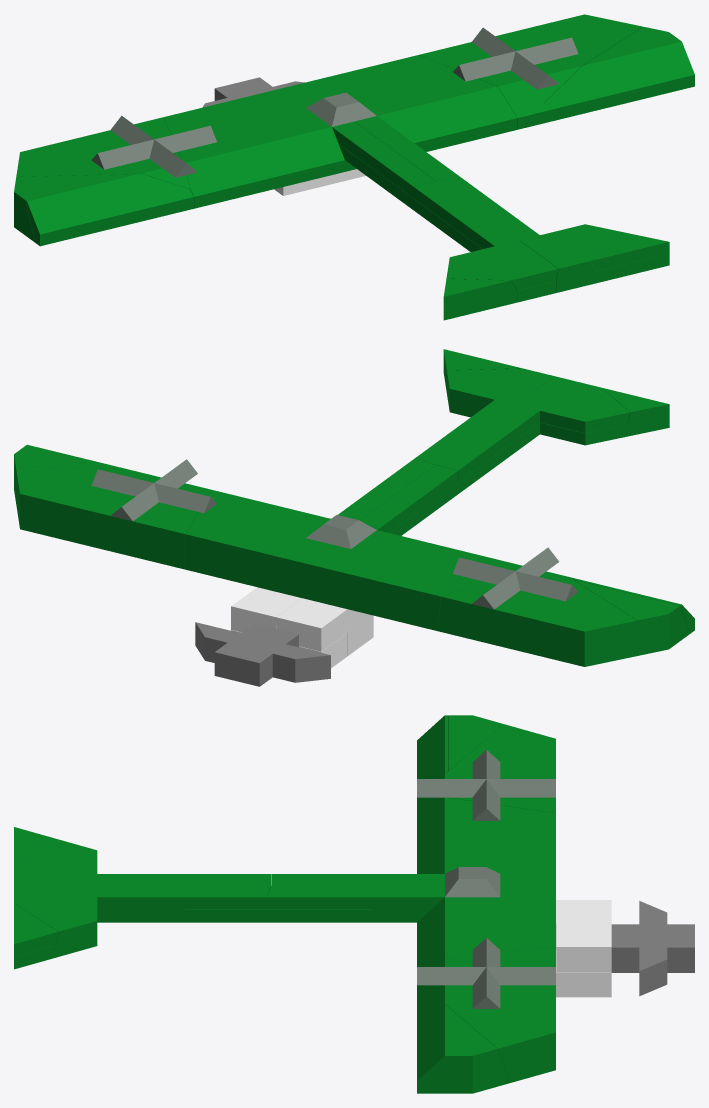
File: Fokker E.III Green Debris.dae
The picture shows the model from 3 angles, top to bottom: view 1: azimuth 30°, elevation 25°; view 2: azimuth 150°, elevation 25°; view 3: azimuth 270°, elevation 25°; orthographic projection. The views are drawn at different scales.
Visible parts, largest first — view 1: Cube.008_cell.002, Cube.008_cell.005, Cube.008_cell.001, Cube.008_cell.003, Cube.008_cell, Cube.010_cell.005, Cube.011_cell.003, Cube.011_cell.004, Cube.002, Cube.001, Cube.010_cell, Cube.011_cell.002 (+10 smaller); view 2: Cube.008_cell.002, Cube.008_cell, Cube.008_cell.003, Cube.000, Cube.010_cell.005, Cube.011_cell.004, Cube.011_cell.003, Cube.002, Cube.001, Cube.008_cell.004, Cube.010_cell, Cube.009_cell.002 (+10 smaller); view 3: Cube.008_cell.002, Cube.008_cell.003, Cube.008_cell.005, Cube.010_cell.005, Cube.000, Cube.008_cell, Cube.010_cell.001, Cube.011_cell.003, Cube.001, Cube.002, Cube.011_cell.004, Cube.009_cell.005 (+10 smaller).
Boxes of the visible parts, bbox=[...] form: Cube.008_cell.002: bbox=[163, 55, 517, 208]; Cube.008_cell.005: bbox=[524, 26, 694, 127]; Cube.008_cell.001: bbox=[25, 173, 194, 246]; Cube.008_cell.003: bbox=[419, 14, 642, 129]; Cube.008_cell: bbox=[16, 117, 189, 189]; Cube.010_cell.005: bbox=[413, 177, 539, 248]; Cube.011_cell.003: bbox=[519, 224, 623, 292]; Cube.011_cell.004: bbox=[446, 240, 558, 290]; Cube.002: bbox=[91, 115, 216, 177]; Cube.001: bbox=[453, 27, 578, 89]; Cube.010_cell: bbox=[332, 121, 435, 197]; Cube.011_cell.002: bbox=[443, 278, 516, 320]; Cube.008_cell.002: bbox=[186, 489, 522, 630]; Cube.008_cell: bbox=[437, 568, 637, 666]; Cube.008_cell.003: bbox=[16, 466, 210, 569]; Cube.000: bbox=[195, 622, 330, 686]; Cube.010_cell.005: bbox=[416, 400, 539, 481]; Cube.011_cell.004: bbox=[516, 376, 630, 433]; Cube.011_cell.003: bbox=[446, 368, 554, 417]; Cube.002: bbox=[452, 547, 577, 609]; Cube.001: bbox=[91, 459, 216, 521]; Cube.008_cell.004: bbox=[573, 579, 689, 655]; Cube.010_cell: bbox=[360, 465, 458, 532]; Cube.009_cell.002: bbox=[276, 598, 352, 651]; Cube.008_cell.002: bbox=[417, 797, 555, 988]; Cube.008_cell.003: bbox=[417, 946, 555, 1082]; Cube.008_cell.005: bbox=[417, 997, 509, 1093]; Cube.010_cell.005: bbox=[97, 874, 270, 909]; Cube.000: bbox=[611, 901, 694, 996]; Cube.008_cell: bbox=[424, 724, 555, 813]; Cube.010_cell.001: bbox=[266, 885, 444, 909]; Cube.011_cell.003: bbox=[14, 886, 97, 957]; Cube.001: bbox=[417, 938, 555, 1008]; Cube.002: bbox=[417, 750, 555, 820]; Cube.011_cell.004: bbox=[14, 837, 97, 886]; Cube.009_cell.005: bbox=[556, 923, 611, 971].
Bounding box in the file's own units: 5.8 × 4.9 × 0.8.
